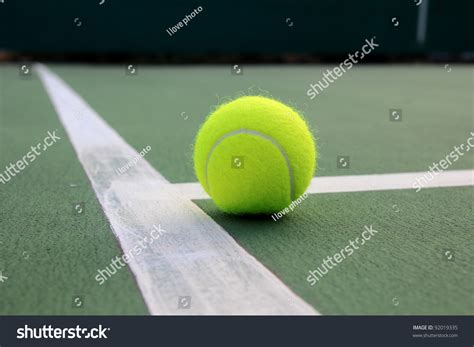tennis_ball: (191, 94, 318, 214)
